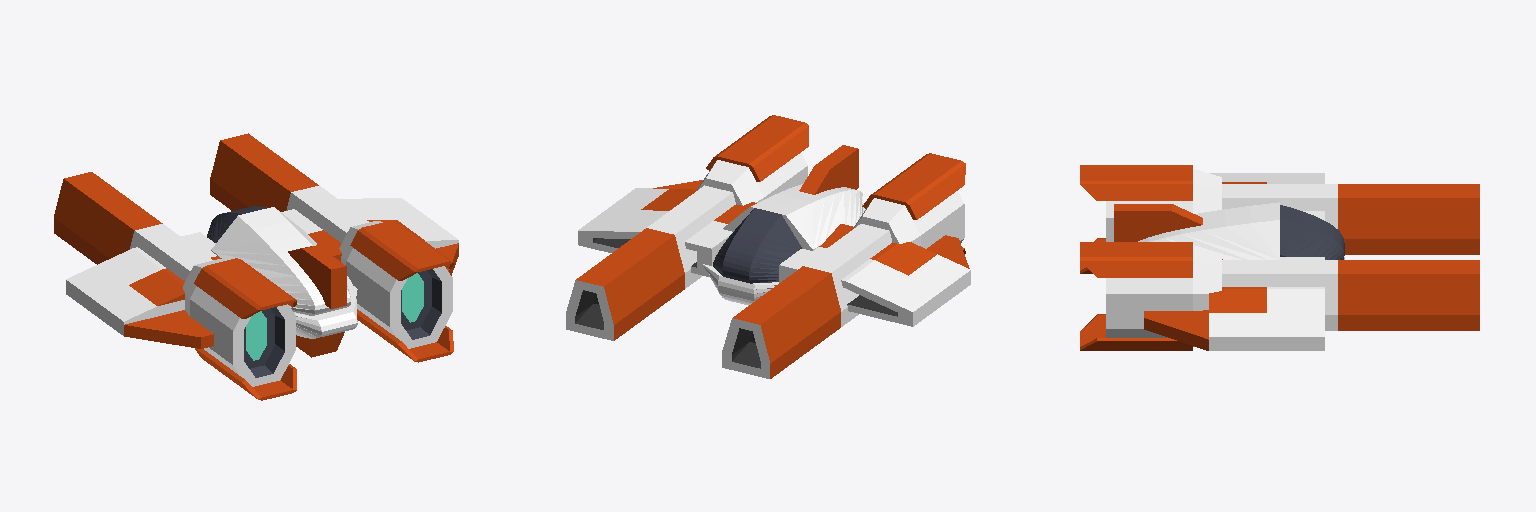
Rendered from GeminiG2.obj.
The picture shows the model from 3 angles: view 1: azimuth 30°, elevation 25°; view 2: azimuth 150°, elevation 25°; view 3: azimuth 270°, elevation 25°; orthographic projection.
Parts seen in each view (by area): view 1: engine_high_17, engine_high_4, engine_barrelTop_0, engine_barrelTop_15, engine_corner_2, glass_curved_20, engine_corner_16, wing_endLong_13, plane_rudder_22, glass_curved_19, landing_float%_25, glass_curved_6; view 2: engine_barrelTop_0, engine_barrelTop_15, engine_corner_2, engine_high_4, engine_high_17, engine_corner_16, glass_curved_6, glass_curved_20, plane_rudder_22, glass_curved_7, wing_endLong_13; view 3: engine_barrelTop_15, engine_barrelTop_0, engine_high_17, engine_corner_16, engine_high_4, glass_curved_20, glass_curved_6, plane_rudder_22, wing_endLong_14, engine_corner_2.
Boxes of the visible parts, <box> form: engine_high_17: <box>339,220,453,362</box>; engine_high_4: <box>183,258,296,400</box>; engine_barrelTop_0: <box>54,172,212,280</box>; engine_barrelTop_15: <box>210,133,368,242</box>; engine_corner_2: <box>66,232,221,335</box>; glass_curved_20: <box>211,207,352,315</box>; engine_corner_16: <box>281,198,458,261</box>; wing_endLong_13: <box>124,310,213,348</box>; plane_rudder_22: <box>288,245,346,308</box>; glass_curved_19: <box>295,286,357,338</box>; landing_float%_25: <box>296,332,344,357</box>; glass_curved_6: <box>207,206,267,242</box>; engine_barrelTop_0: <box>722,224,891,378</box>; engine_barrelTop_15: <box>566,185,735,340</box>; engine_corner_2: <box>779,224,970,326</box>; engine_high_4: <box>853,153,965,253</box>; engine_high_17: <box>697,115,808,205</box>; engine_corner_16: <box>578,188,756,276</box>; glass_curved_6: <box>713,208,801,283</box>; glass_curved_20: <box>723,184,863,250</box>; plane_rudder_22: <box>799,145,858,194</box>; glass_curved_7: <box>703,264,778,305</box>; wing_endLong_13: <box>927,235,969,268</box>; engine_barrelTop_15: <box>1222,260,1479,330</box>; engine_barrelTop_0: <box>1222,184,1479,254</box>; engine_high_17: <box>1080,242,1221,350</box>; engine_corner_16: <box>1209,257,1324,350</box>; engine_high_4: <box>1080,165,1221,273</box>; glass_curved_20: <box>1138,202,1279,259</box>; glass_curved_6: <box>1280,205,1344,259</box>; plane_rudder_22: <box>1114,204,1202,241</box>; wing_endLong_14: <box>1144,310,1208,350</box>; engine_corner_2: <box>1210,173,1324,220</box>.
Size of the model in its own units: 3 by 0.832 by 3.1.